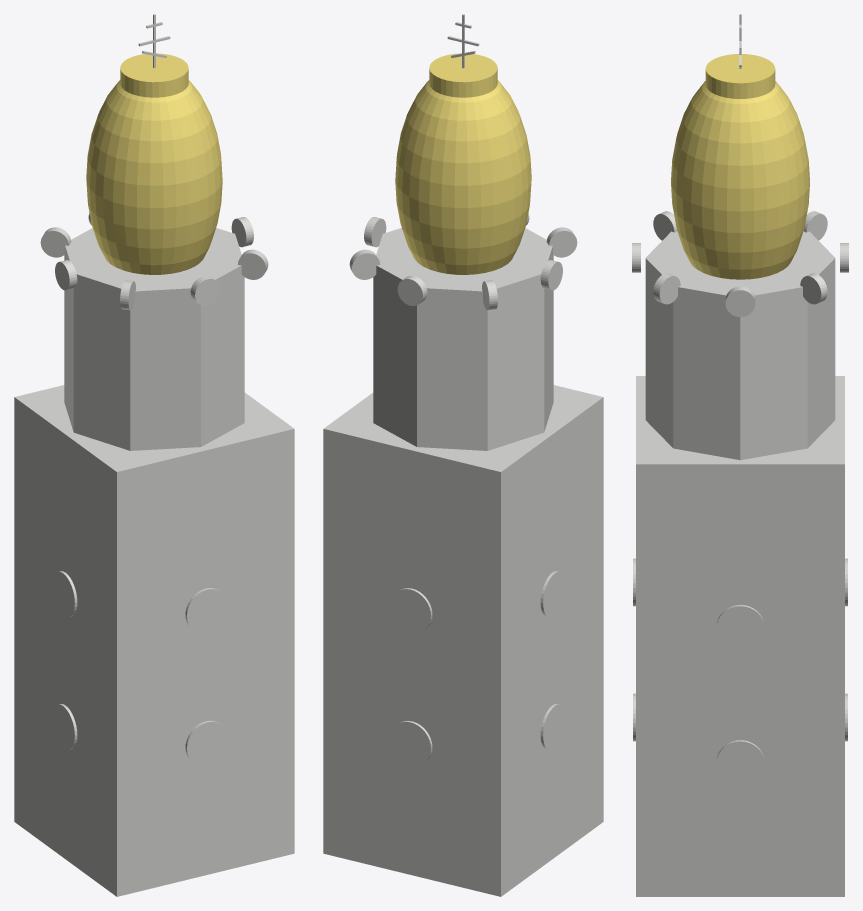
3 views of the same model, side by side, from view 1: azimuth 30°, elevation 25°; view 2: azimuth 150°, elevation 25°; view 3: azimuth 270°, elevation 25° (orthographic).
Visible parts, largest first — view 1: Base_Ortodossa, Tamburo_Zakomar, Cupola_Cipolla, Colletto_Cupola, Arco_Cieco_4_5.0, Arco_Cieco_4_2.5, Arco_Cieco_3_5.0, Arco_Cieco_3_2.5, Kokoshnik_8, Kokoshnik_7, Kokoshnik_4; view 2: Base_Ortodossa, Tamburo_Zakomar, Cupola_Cipolla, Colletto_Cupola, Arco_Cieco_2_5.0, Arco_Cieco_2_2.5, Arco_Cieco_3_5.0, Arco_Cieco_3_2.5, Kokoshnik_2, Kokoshnik_3, Kokoshnik_6; view 3: Base_Ortodossa, Tamburo_Zakomar, Cupola_Cipolla, Colletto_Cupola, Arco_Cieco_1_2.5, Arco_Cieco_1_5.0, Kokoshnik_1, Kokoshnik_2, Kokoshnik_8, Kokoshnik_4, Kokoshnik_6.
Boxes of the visible parts, x1,y1,x2,y2 form: Base_Ortodossa: (14, 385, 294, 896); Tamburo_Zakomar: (64, 228, 244, 450); Cupola_Cipolla: (86, 80, 222, 274); Colletto_Cupola: (120, 53, 188, 97); Arco_Cieco_4_5.0: (185, 588, 227, 632); Arco_Cieco_4_2.5: (185, 720, 227, 765); Arco_Cieco_3_5.0: (51, 571, 77, 617); Arco_Cieco_3_2.5: (51, 704, 77, 750); Kokoshnik_8: (237, 249, 268, 279); Kokoshnik_7: (190, 275, 220, 306); Kokoshnik_4: (40, 227, 71, 257); Base_Ortodossa: (323, 385, 603, 896); Tamburo_Zakomar: (373, 228, 553, 450); Cupola_Cipolla: (395, 80, 531, 274); Colletto_Cupola: (429, 53, 497, 97); Arco_Cieco_2_5.0: (390, 588, 432, 632); Arco_Cieco_2_2.5: (390, 720, 432, 765); Arco_Cieco_3_5.0: (540, 571, 566, 617); Arco_Cieco_3_2.5: (540, 704, 566, 750); Kokoshnik_2: (349, 249, 380, 279); Kokoshnik_3: (397, 275, 427, 306); Kokoshnik_6: (546, 227, 577, 257); Base_Ortodossa: (636, 376, 844, 896); Tamburo_Zakomar: (645, 231, 835, 460); Cupola_Cipolla: (671, 81, 809, 279); Colletto_Cupola: (705, 54, 775, 98); Arco_Cieco_1_2.5: (716, 740, 764, 784); Arco_Cieco_1_5.0: (716, 605, 764, 649); Kokoshnik_1: (725, 286, 755, 317); Kokoshnik_2: (800, 273, 827, 304); Kokoshnik_8: (653, 273, 680, 304); Kokoshnik_4: (803, 211, 827, 240); Kokoshnik_6: (653, 211, 677, 240).
Bounding box in the file's own units: 3.63 × 15.5 × 3.63.
